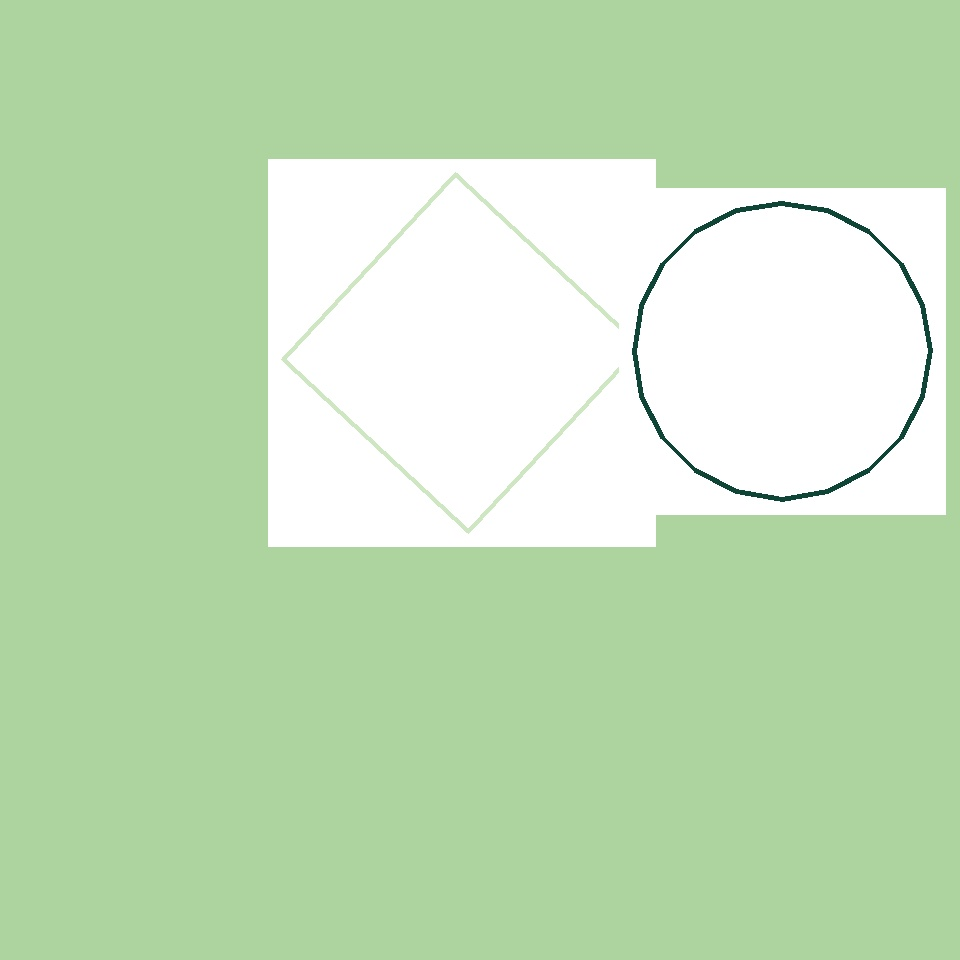square: (284, 175, 640, 532), (212, 118, 546, 450), (342, 63, 572, 294)
triangle: (616, 526, 912, 822), (634, 203, 930, 499), (626, 246, 884, 503)
